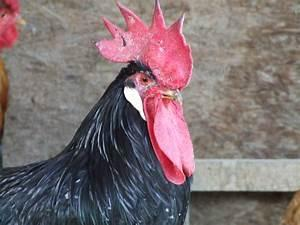hen: (0, 0, 196, 224)
